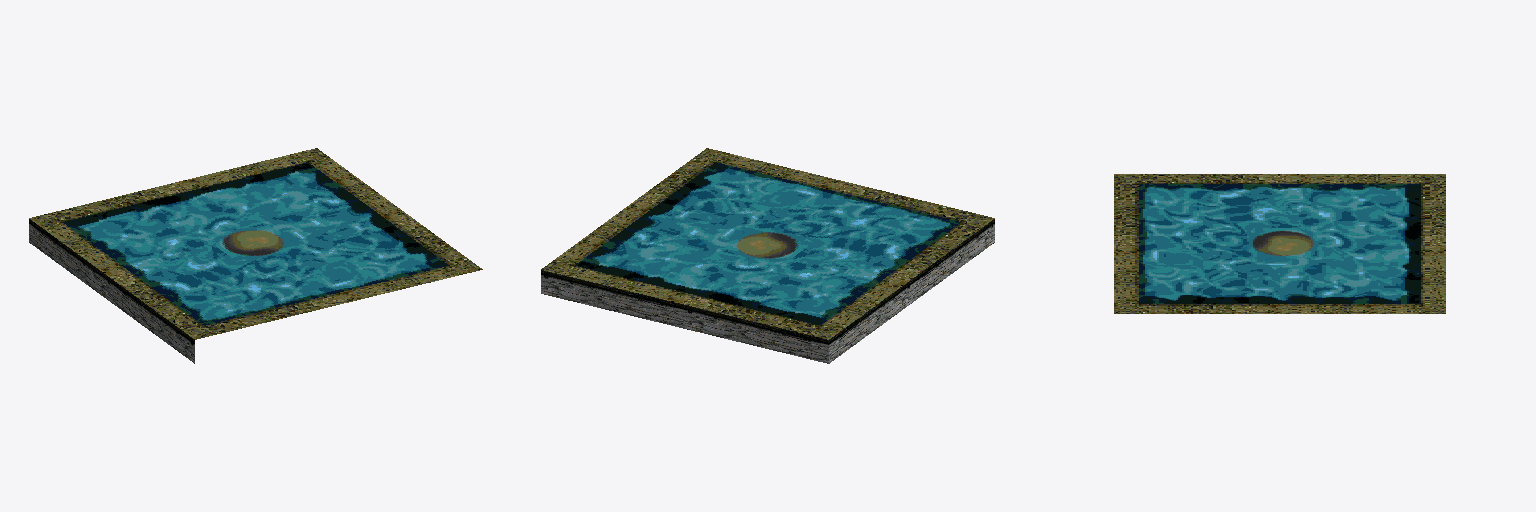
3 renders of one model, left to right at view 1: azimuth 30°, elevation 25°; view 2: azimuth 150°, elevation 25°; view 3: azimuth 270°, elevation 25°, orthographic.
Size of the model in its own units: 200 by 16 by 200.
1 materials, 1 textured.